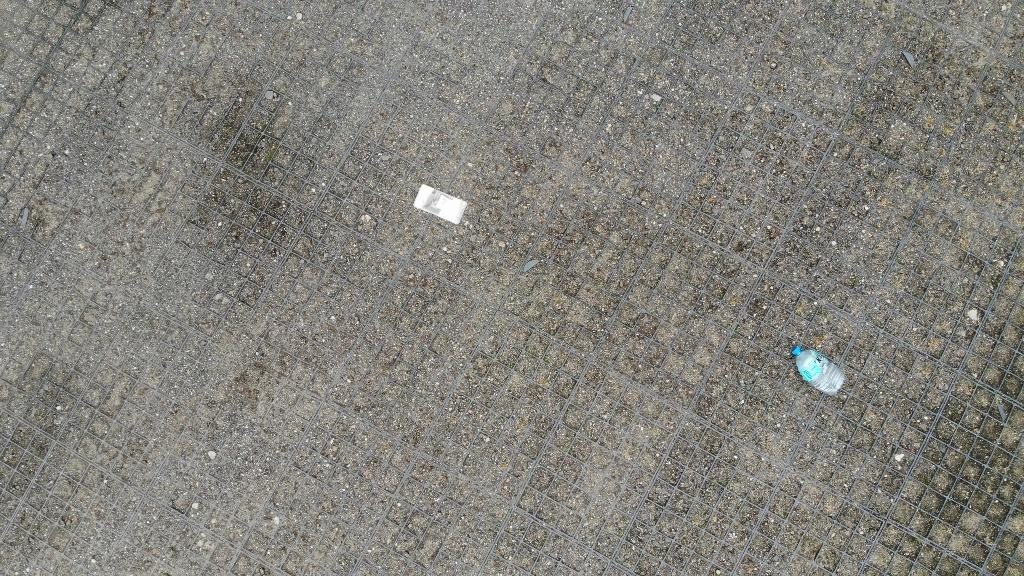garbage: (791, 343, 847, 398), (409, 183, 469, 226)
